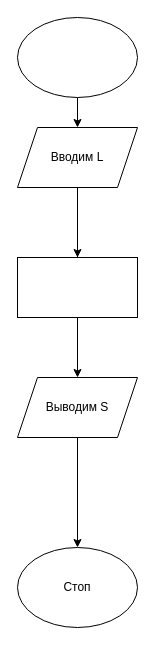
Image size: 155x645. Some labels were removed from this diagram. The box of each missing label's shape, as (x1, y1, x2, y2) in pixels:
S=((L/2)*(L/2))/3.14: (16, 256, 138, 318)
Старт: (16, 16, 138, 98)
